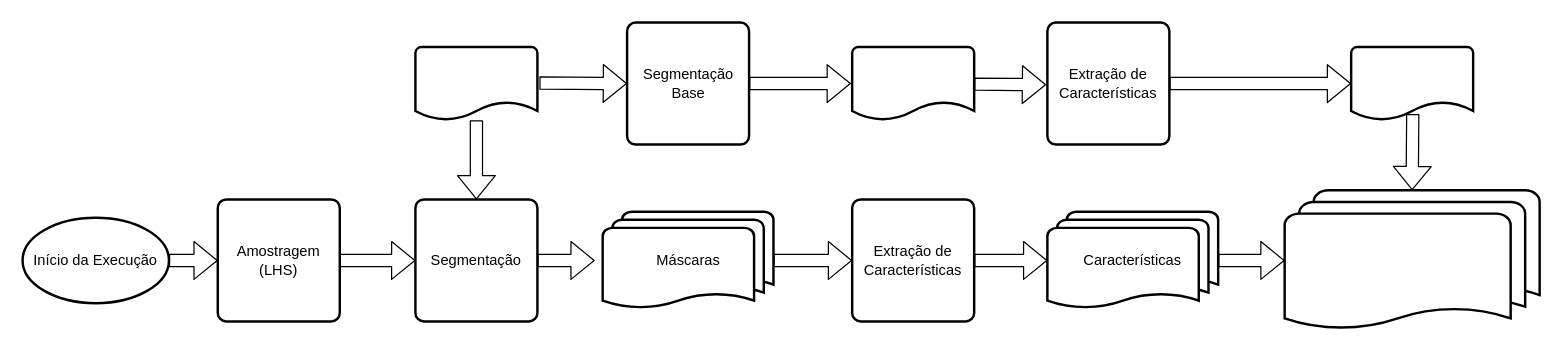
This 1562x353 diagram has some shape labels left out. The shapes that lost their labels are listed below. From the top down, each one's box as (x1, y1, x2, y2) in pixels, then its label:
(414, 45, 538, 121): Tile
(850, 45, 975, 121): Máscara Base
(1349, 45, 1474, 121): Características Base
(1283, 188, 1540, 331): Métrica de Comparação de Distribuições (KS, por exemplo)
